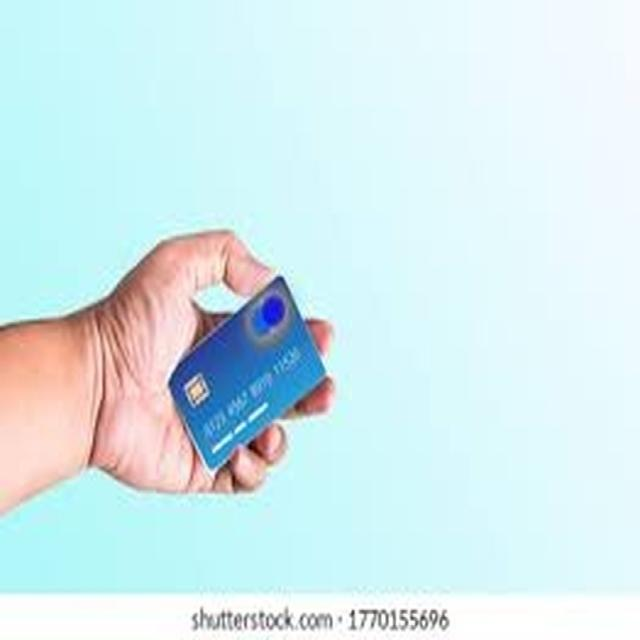card: (162, 273, 331, 481)
